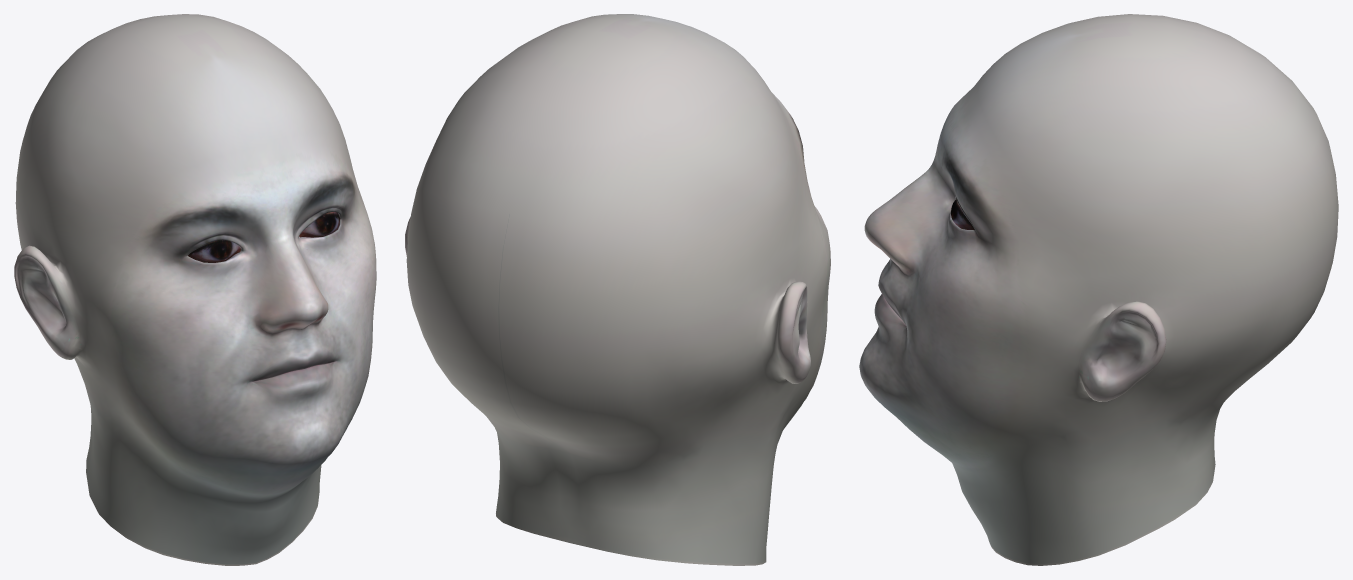
The picture shows the model from 3 angles, left to right: view 1: azimuth 30°, elevation 25°; view 2: azimuth 150°, elevation 25°; view 3: azimuth 270°, elevation 25°; orthographic projection. The views are drawn at different scales.
Parts seen in each view (by area): view 1: skin_hi, eyeR_hi, eyeL_hi; view 2: skin_hi; view 3: skin_hi.
Part boxes in pixels (box(x1,y1,x2,y2)): skin_hi: box(14, 14, 376, 565); eyeR_hi: box(188, 240, 240, 262); eyeL_hi: box(299, 212, 340, 237); skin_hi: box(405, 14, 830, 565); skin_hi: box(859, 14, 1338, 565).
Bounding box in the file's own units: 202 × 280 × 237.
